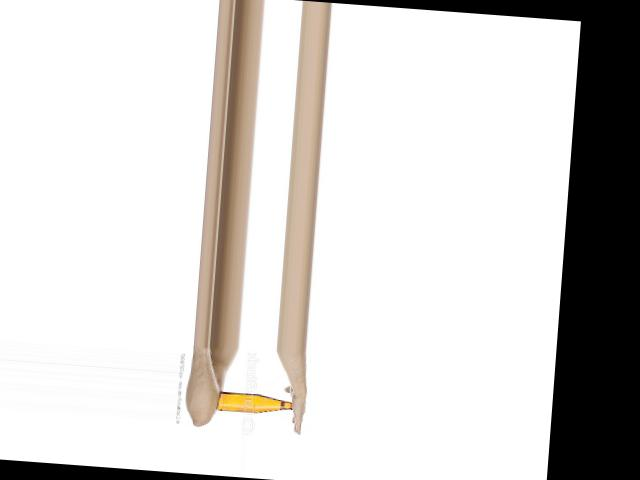beer: (217, 390, 294, 415)
